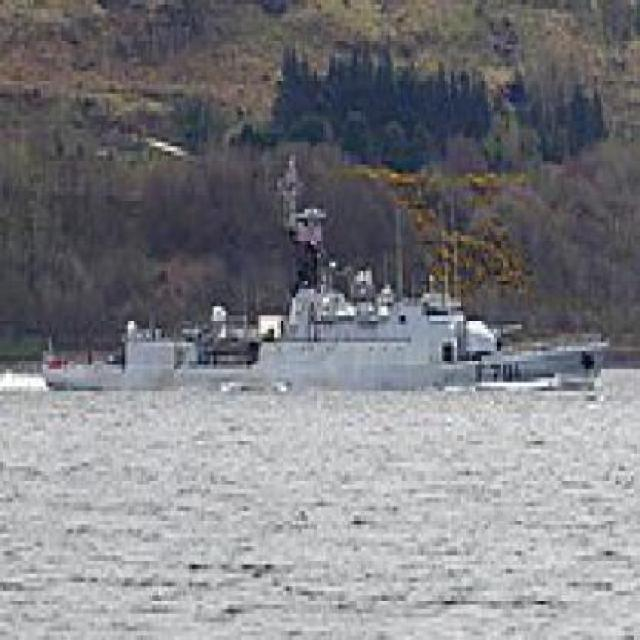warship2: (34, 156, 611, 401)
